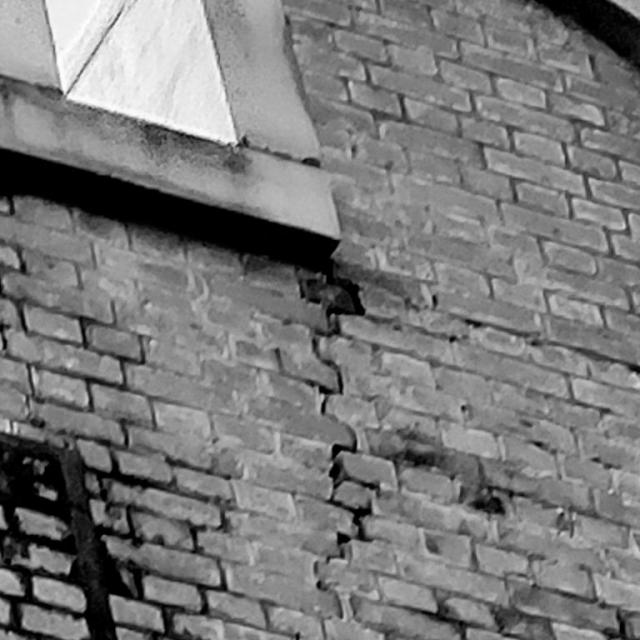crack: (298, 260, 378, 589)
